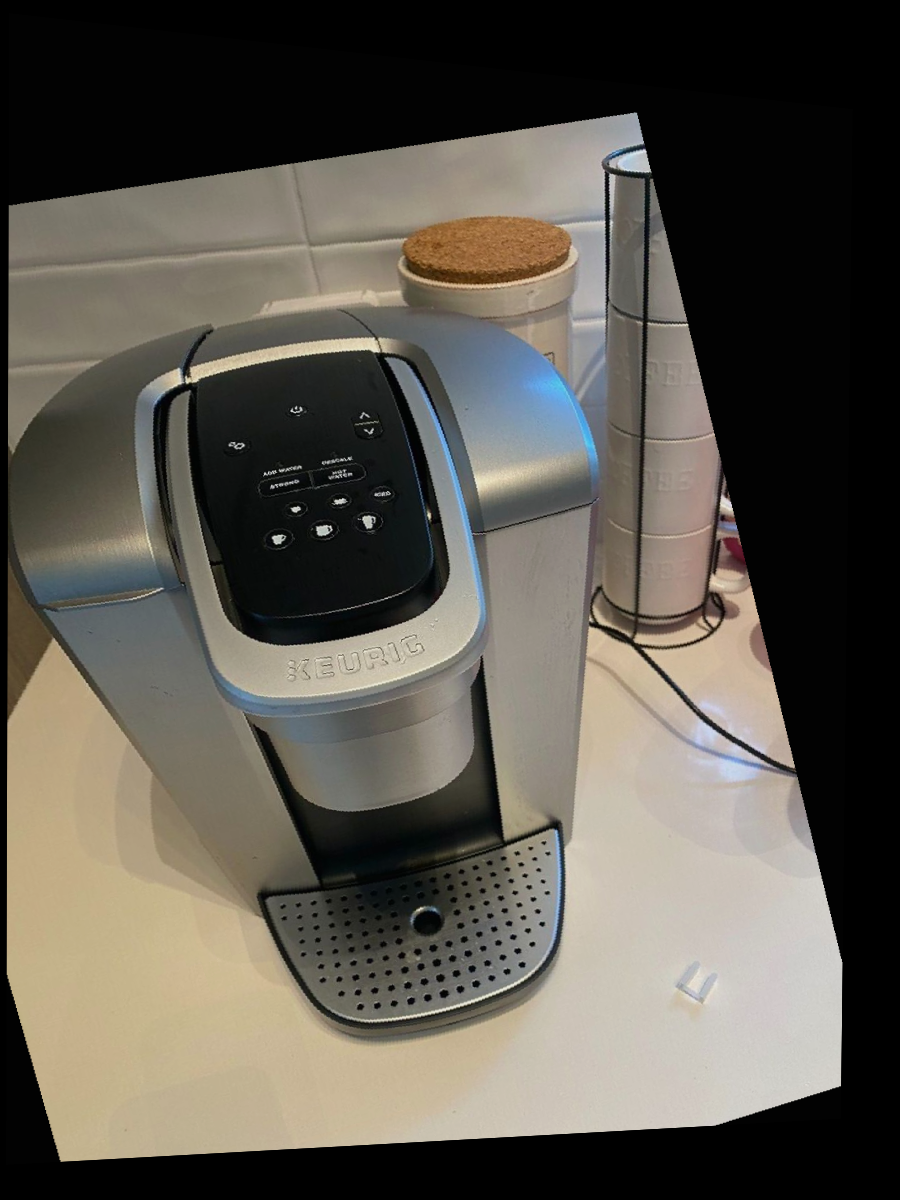10oz: (306, 518, 342, 542)
12oz: (351, 510, 387, 535)
4oz: (283, 500, 311, 519)
6oz: (326, 492, 354, 510)
8oz: (260, 527, 297, 552)
add_water: (252, 451, 309, 479)
descale: (306, 441, 362, 469)
hot: (311, 459, 368, 490)
iced: (369, 485, 397, 503)
power: (283, 401, 313, 421)
strong: (257, 469, 314, 500)
